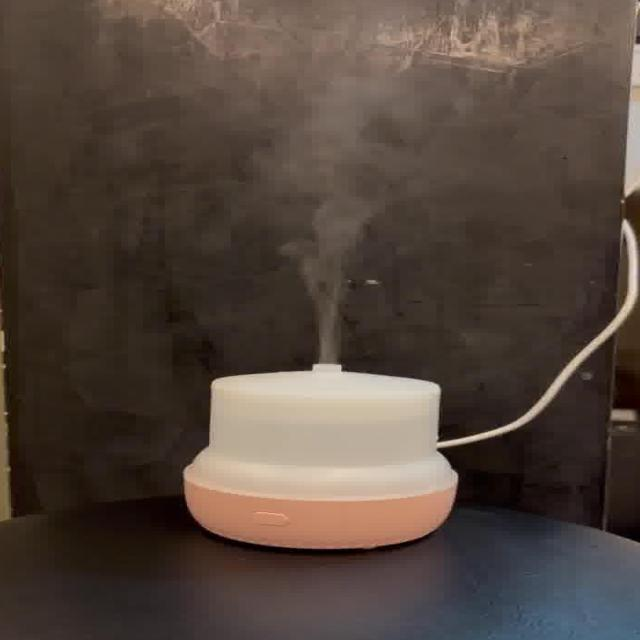fire: (261, 138, 424, 364)
